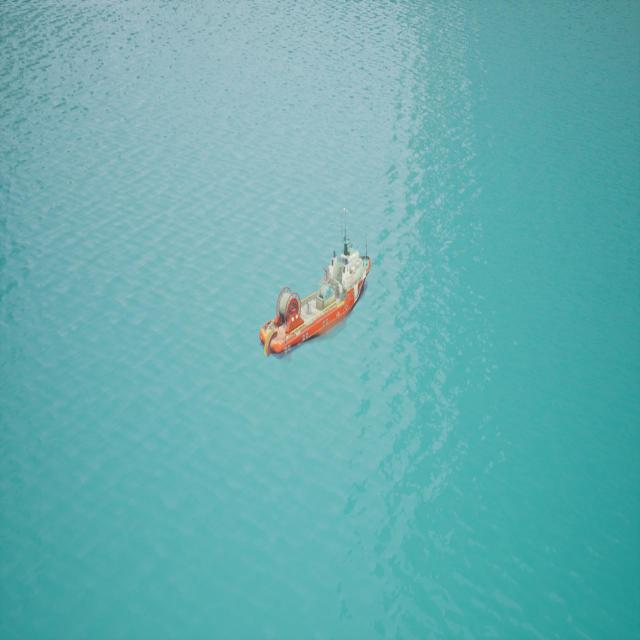tug boat: (265, 251, 373, 360)
